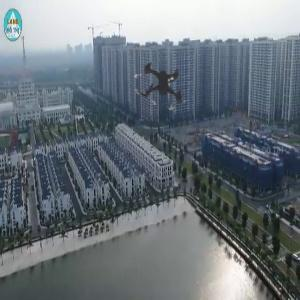drone: (88, 15, 235, 162)
